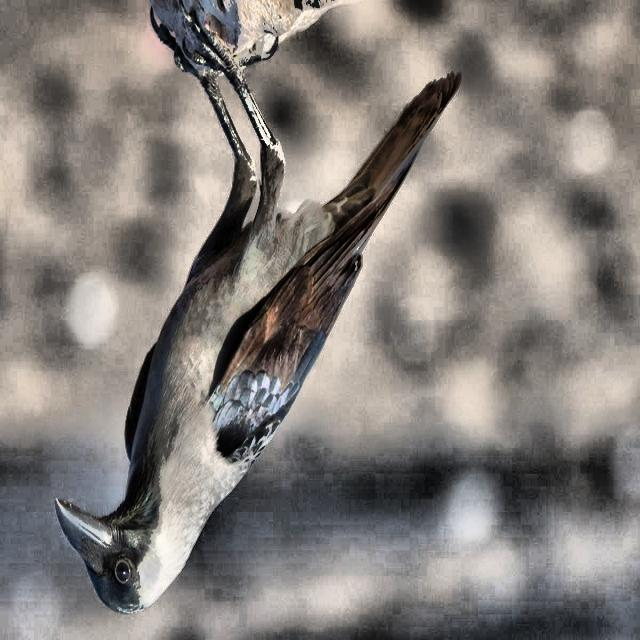crow: (44, 28, 473, 628)
